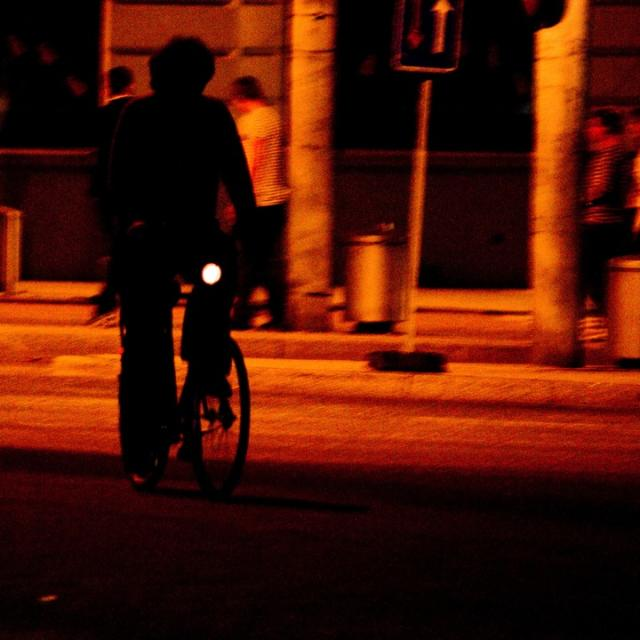Bicycle: (137, 278, 300, 510)
People: (115, 45, 247, 335), (227, 51, 297, 206), (583, 94, 640, 261), (75, 50, 139, 122)
